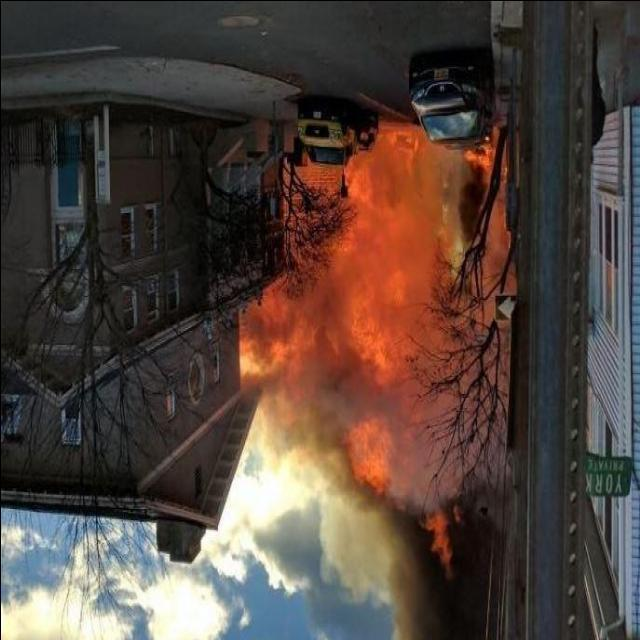Fire: (254, 98, 496, 476)
